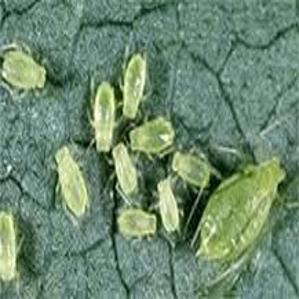Green peach aphid: (178, 139, 299, 286), (44, 151, 99, 226), (161, 136, 222, 190), (97, 144, 150, 203), (82, 83, 122, 155), (112, 50, 154, 117), (99, 198, 156, 245), (121, 117, 183, 160), (148, 175, 189, 239), (0, 49, 52, 98), (0, 209, 30, 287)
